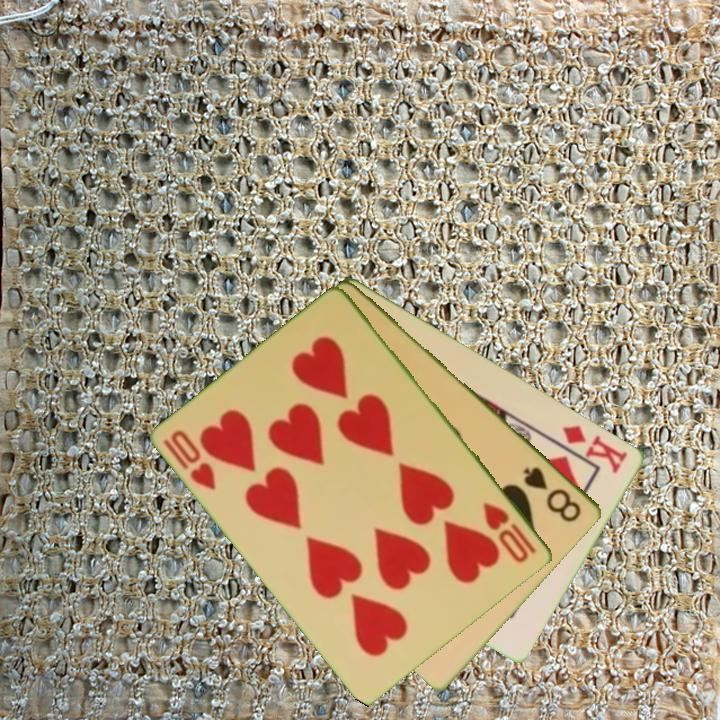10h: (480, 498, 540, 566), (160, 426, 220, 494)
8s: (520, 463, 585, 525)
Kd: (559, 421, 631, 477)
